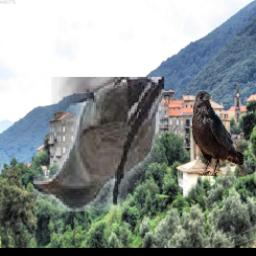Crow: (192, 91, 245, 177)
Cuckoo: (32, 78, 163, 212)
